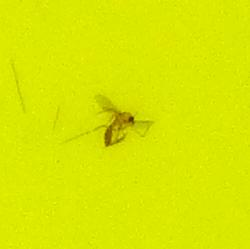Nematocera: (100, 100, 150, 149)
